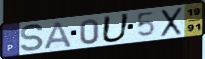0: (78, 17, 100, 46)
5: (135, 10, 157, 39)
A: (43, 21, 74, 50)
S: (19, 23, 45, 52)
U: (100, 12, 132, 44)
X: (159, 6, 184, 39)
